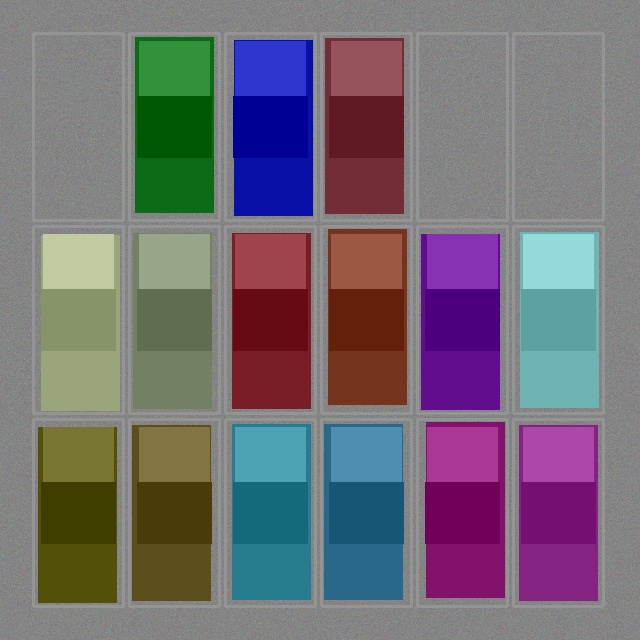space-empty: (35, 35, 121, 218), (419, 35, 505, 218), (515, 35, 601, 218)
space-occupied: (131, 35, 217, 218), (227, 35, 313, 218), (323, 35, 409, 218), (35, 228, 121, 411), (131, 228, 217, 411), (227, 228, 313, 411), (323, 228, 409, 411), (419, 228, 505, 411), (515, 228, 601, 411), (35, 421, 121, 604), (131, 421, 217, 604), (227, 421, 313, 604), (323, 421, 409, 604), (419, 421, 505, 604), (515, 421, 601, 604)
